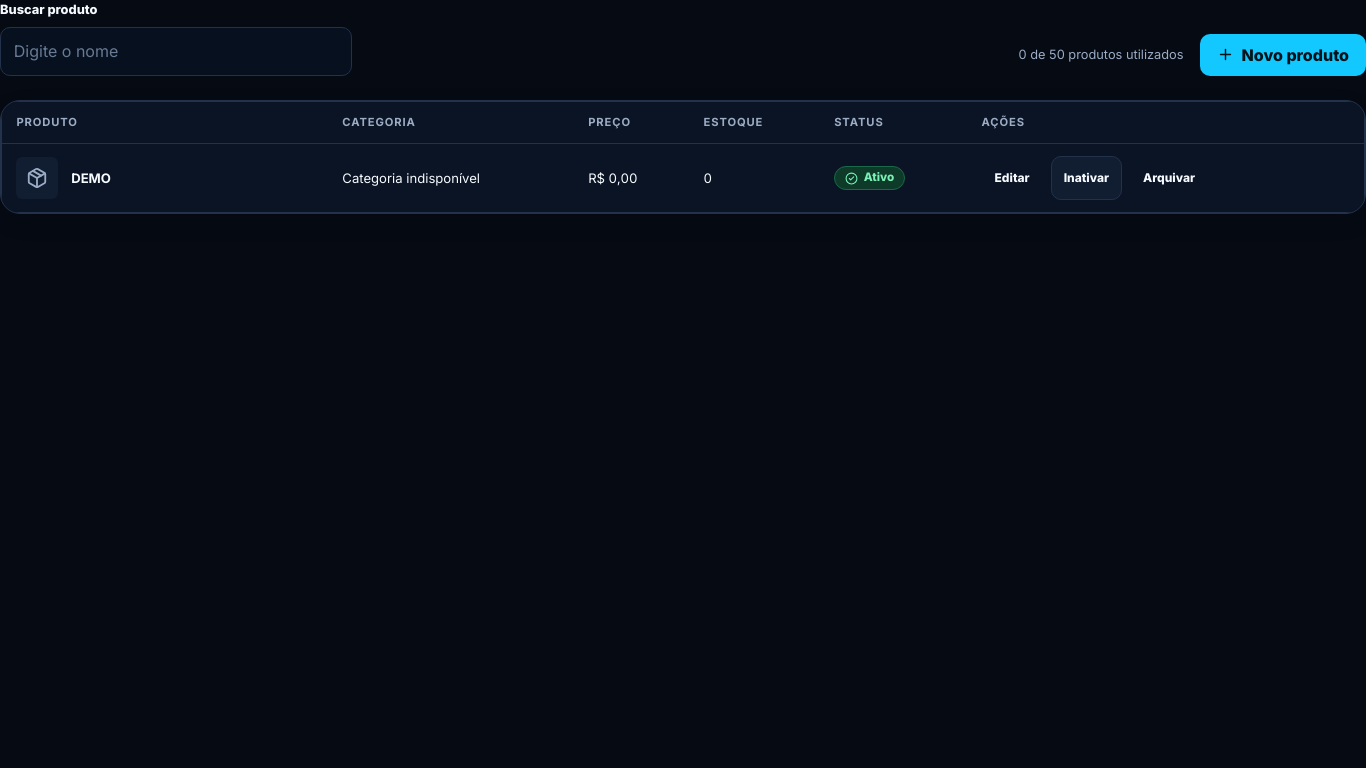
Test: painel e catálogo › arquivamento pede confirmação e Escape mantém o produto
The width and height of the screenshot is (1366, 768).
Click the button with aria-label "Arquivar DEMO" at (1169, 178), box [1130,156,1208,200]
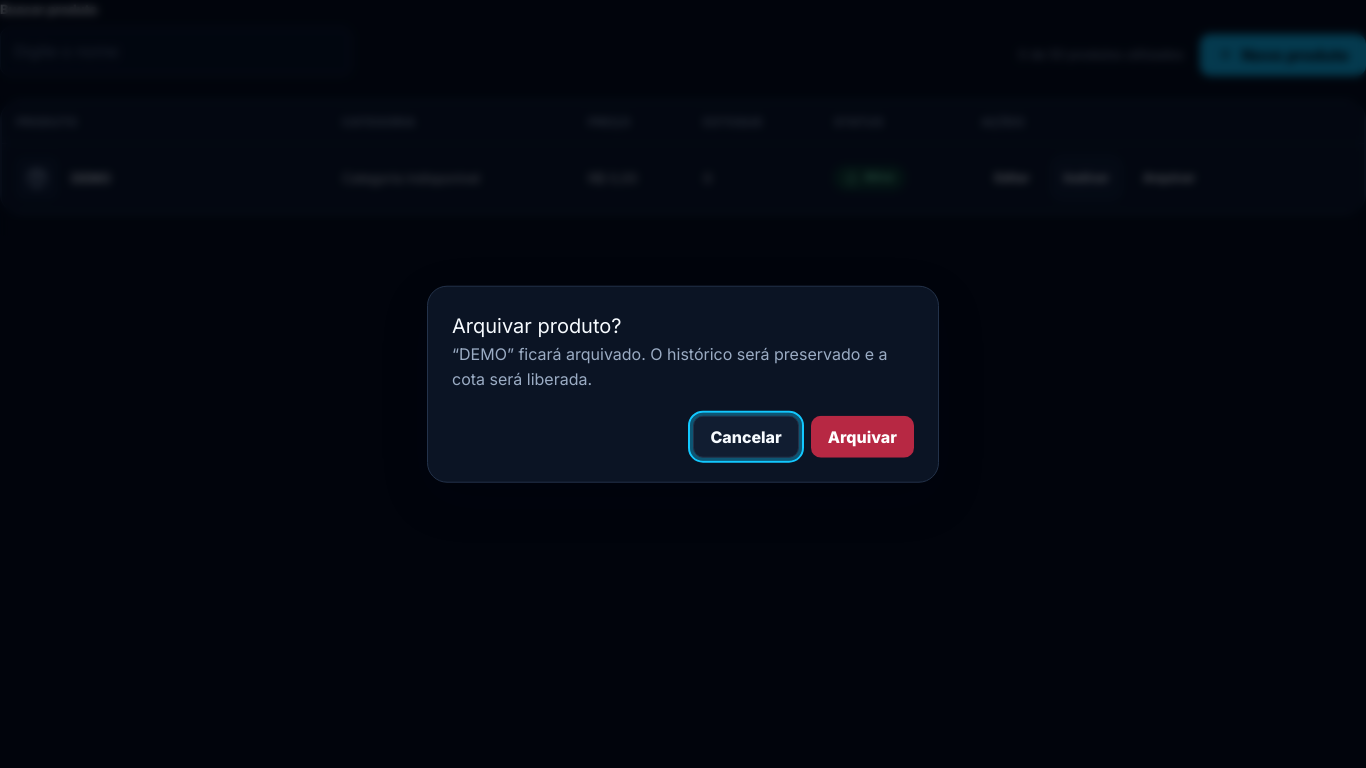
Press Escape in the dialog, box [427,286,939,482]
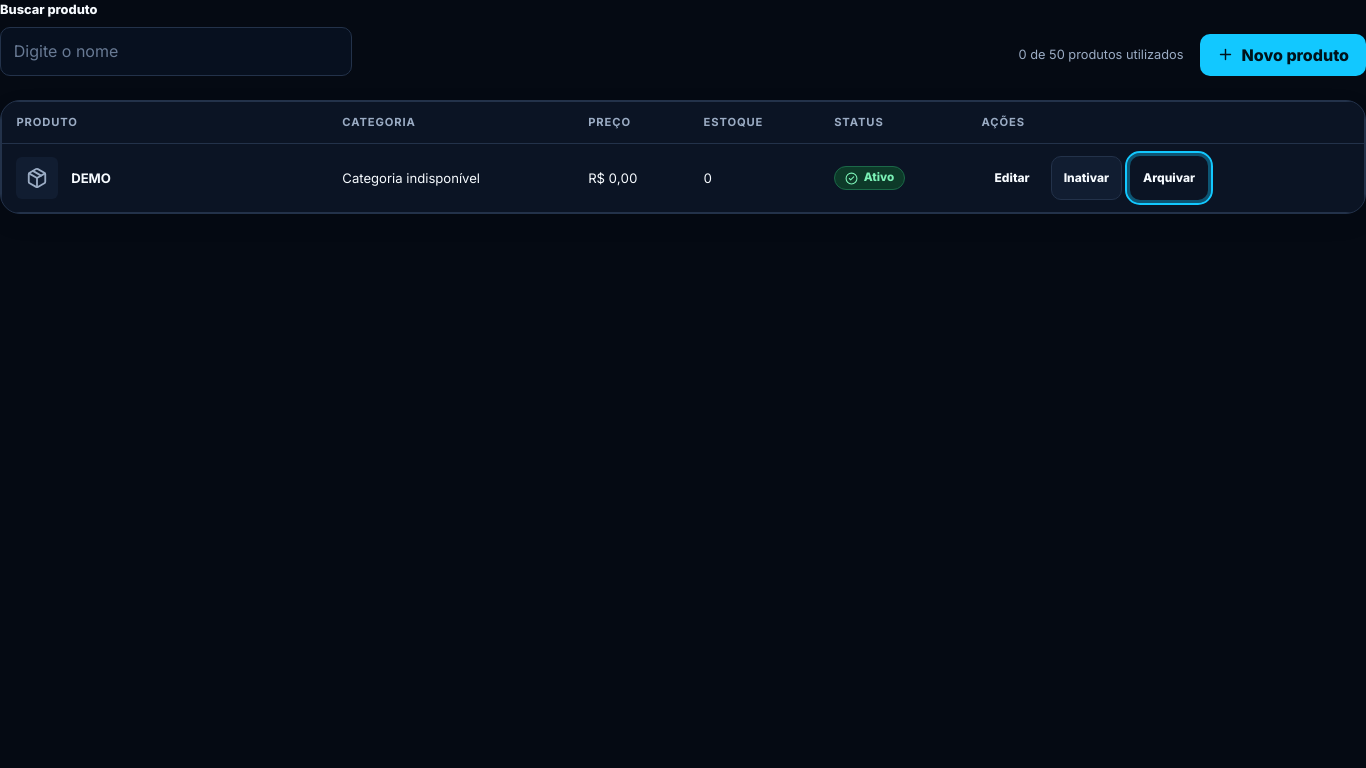
Now the dialog is gone
